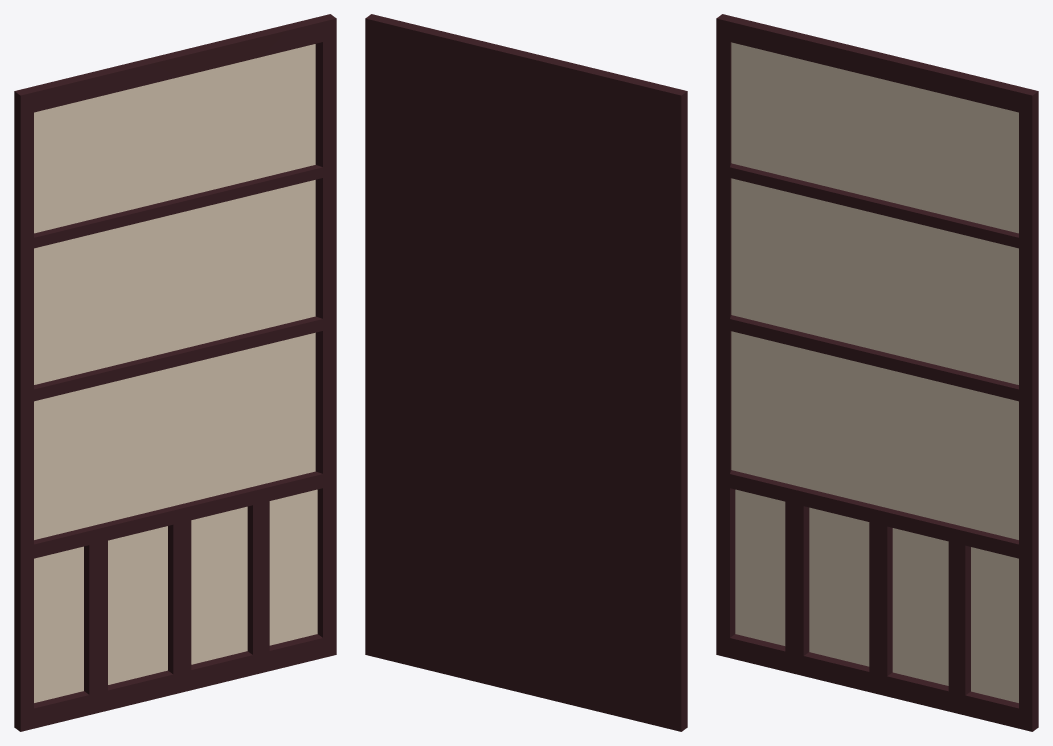
Rendered from door.fbx.
The picture shows the model from 3 angles, left to right: view 1: azimuth 30°, elevation 25°; view 2: azimuth 150°, elevation 25°; view 3: azimuth 330°, elevation 25°; orthographic projection.
Visible parts, largest first — view 1: polySurface1026; view 2: polySurface1026; view 3: polySurface1026.
Boxes of the visible parts, x1,y1,x2,y2 form: polySurface1026: (14,14,336,731); polySurface1026: (365,14,687,731); polySurface1026: (716,14,1038,731).
Size of the model in its own units: 8.44 by 16.24 by 0.2846.
1 material, 1 textured.
